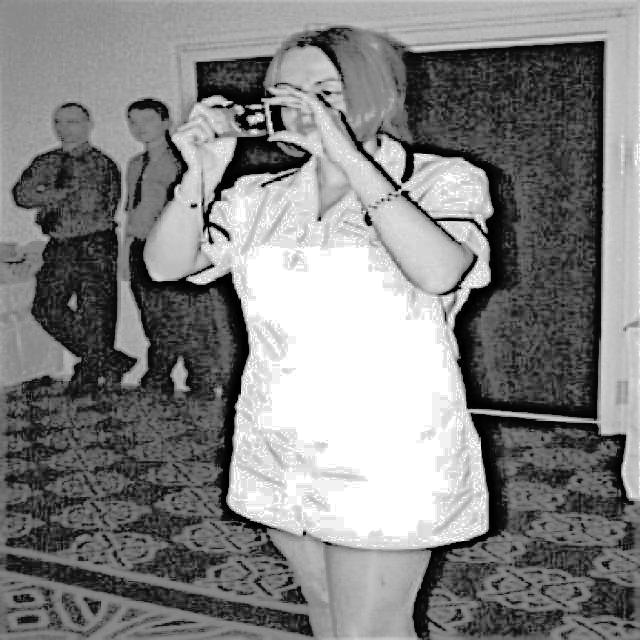Person: (145, 20, 494, 640), (3, 94, 146, 391), (122, 95, 233, 400)
